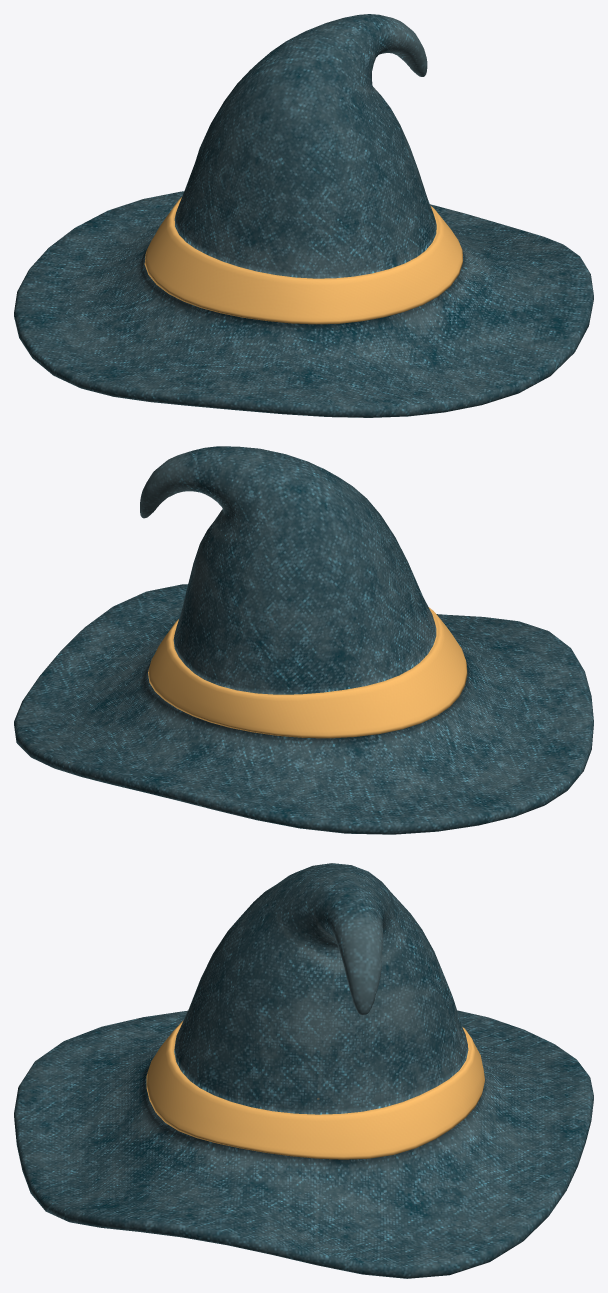
The model's file is hat.fbx.
3 views of the same model, one above another, from view 1: azimuth 30°, elevation 25°; view 2: azimuth 150°, elevation 25°; view 3: azimuth 270°, elevation 25° (orthographic). The views are drawn at different scales.
Parts seen in each view (by area): view 1: Blue Magic Hat; view 2: Blue Magic Hat; view 3: Blue Magic Hat.
Part boxes in pixels (bbox=[...]): Blue Magic Hat: bbox=[14, 14, 593, 417]; Blue Magic Hat: bbox=[14, 446, 593, 834]; Blue Magic Hat: bbox=[14, 863, 593, 1278].
Bounding box in the file's own units: 76.72 × 41.07 × 71.27.
